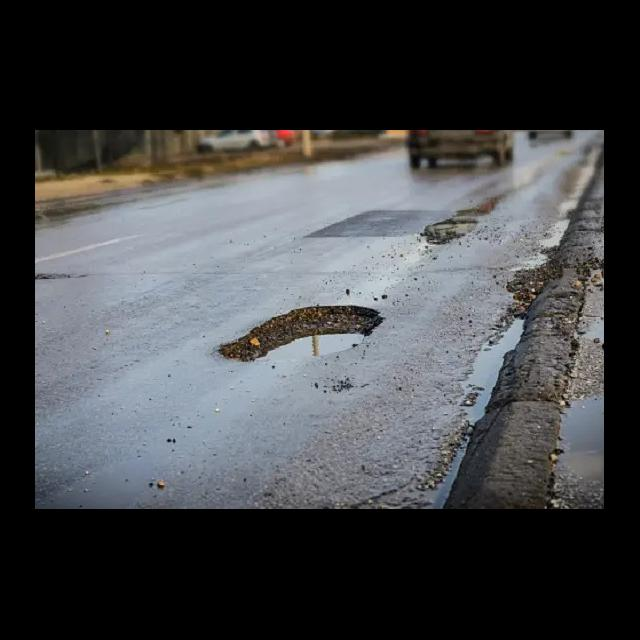lubang_kecil: (194, 289, 406, 379), (396, 199, 494, 254)
